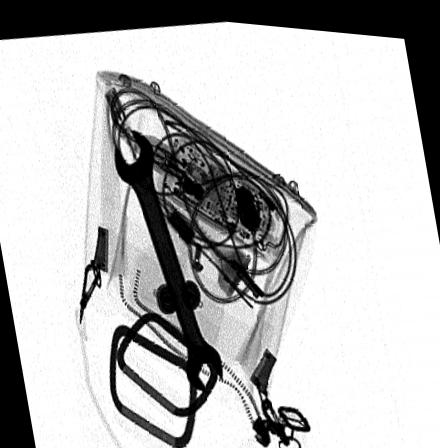Wrench: (111, 126, 222, 390)
